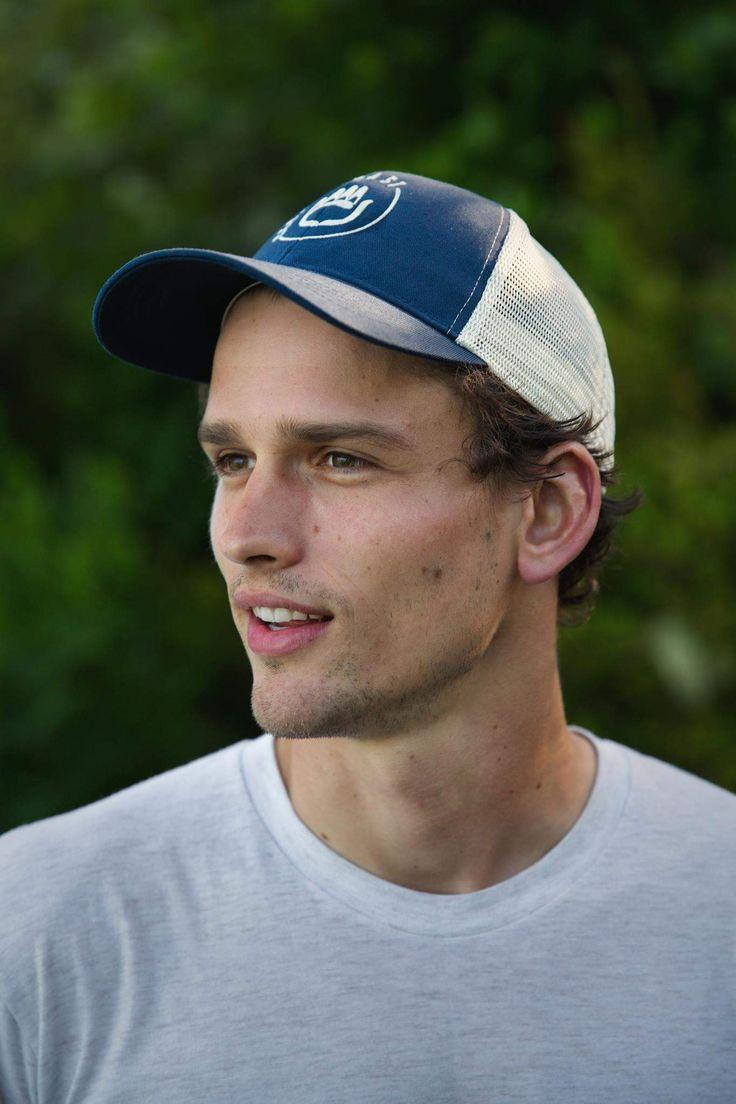cap: (110, 123, 680, 517)
